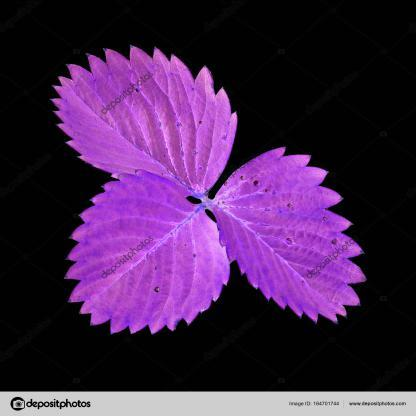Strawberry leaf: (213, 143, 369, 329), (52, 44, 237, 195), (66, 169, 236, 330)
